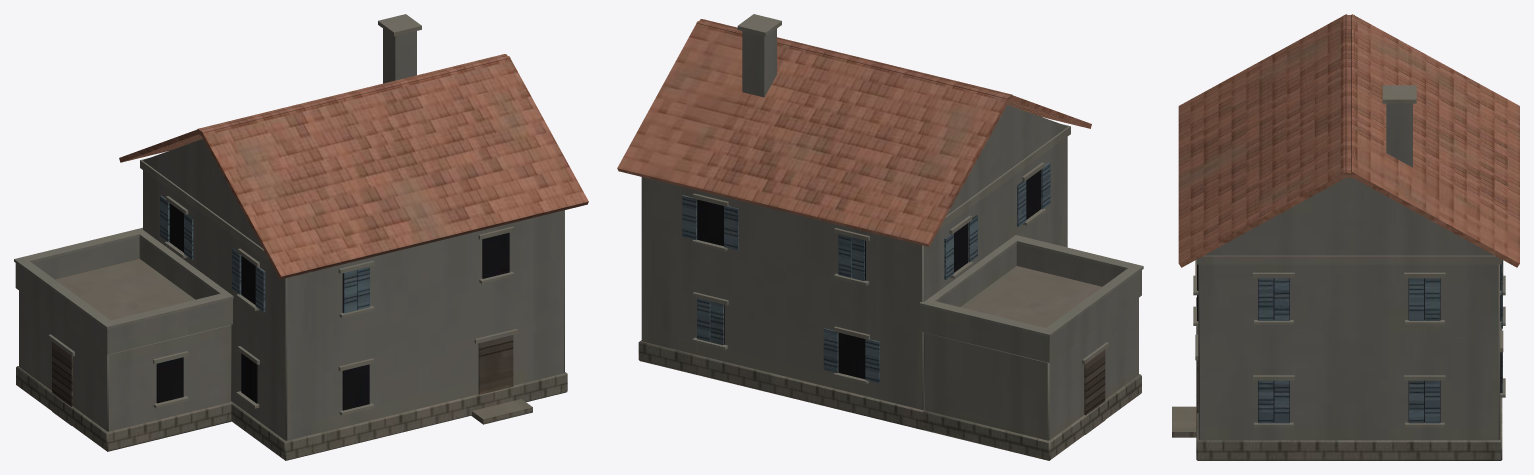
File: a17_house_6.glb
The picture shows the model from 3 angles, left to right: view 1: azimuth 30°, elevation 25°; view 2: azimuth 150°, elevation 25°; view 3: azimuth 270°, elevation 25°; orthographic projection. The views are drawn at different scales.
Parts seen in each view (by area): view 1: body; view 2: body; view 3: body.
Boxes of the visible parts, left/top/right/bottom form: body: left=14, top=14, right=588, bottom=460; body: left=617, top=14, right=1143, bottom=460; body: left=1172, top=14, right=1519, bottom=460.
Bounding box in the file's own units: 1 × 0.7184 × 0.6816.
1 material, 1 textured.
